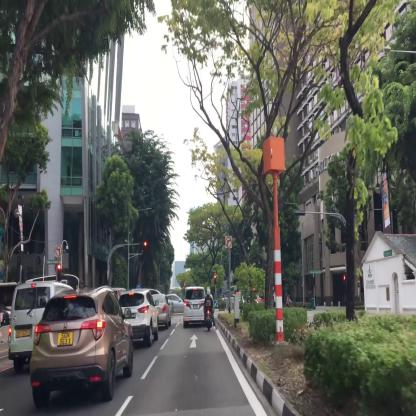red_traffic_light: (56, 262, 61, 280), (140, 239, 148, 248), (213, 274, 217, 285)
